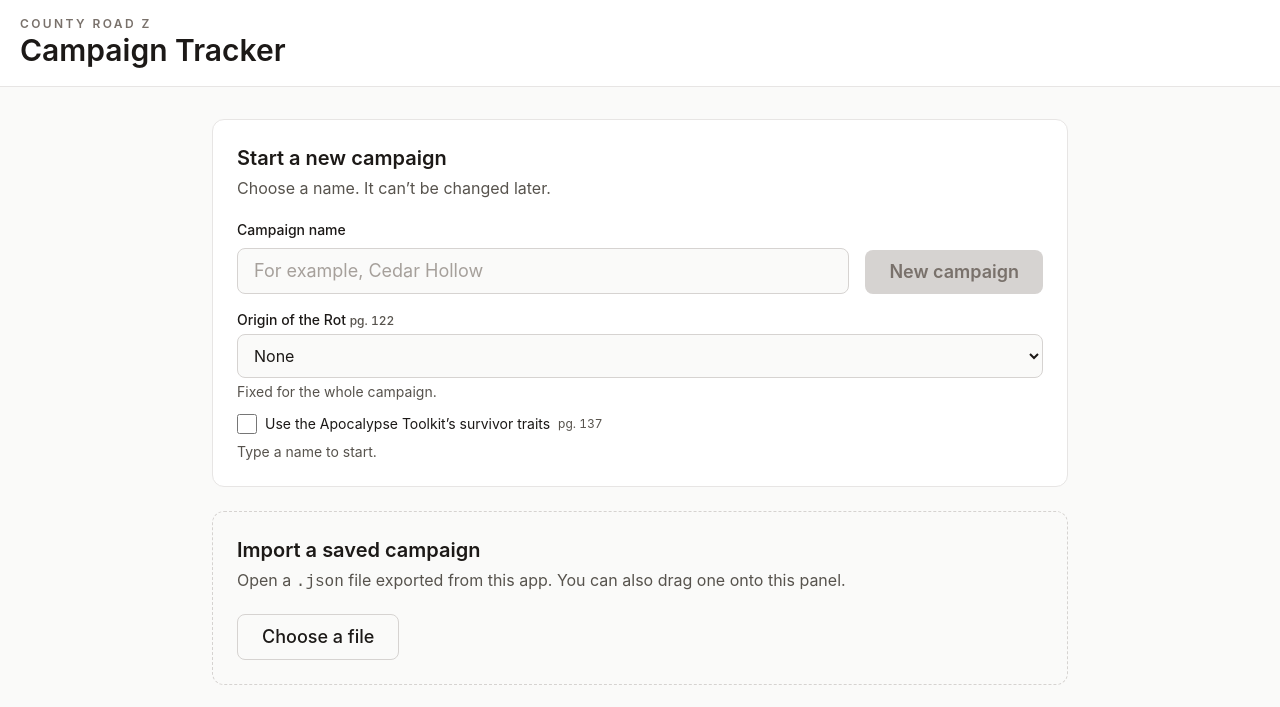
Test: App shell › offers export once a campaign is open, and not before
Type "Cedar Hollow" into the field labelled "Campaign name". click: (543, 270)
box: [237,248,849,294]
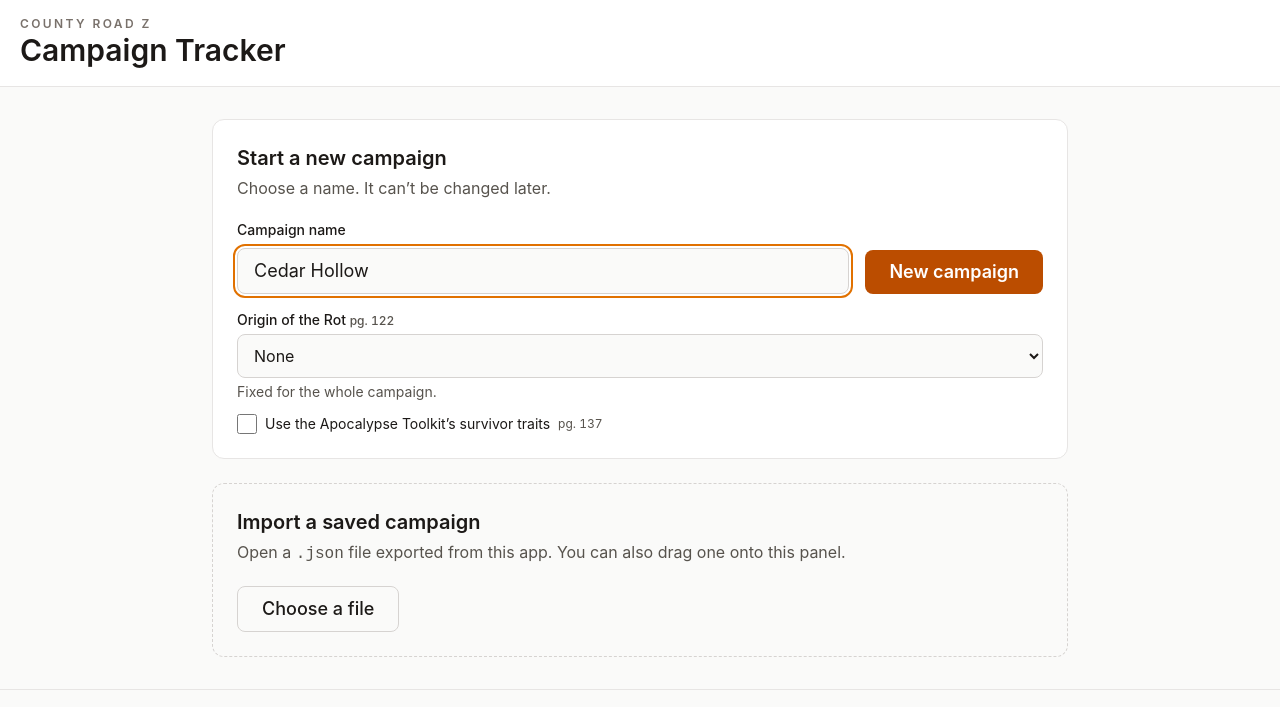
Click the button "New campaign". click: (954, 272)
box: [865,250,1043,294]
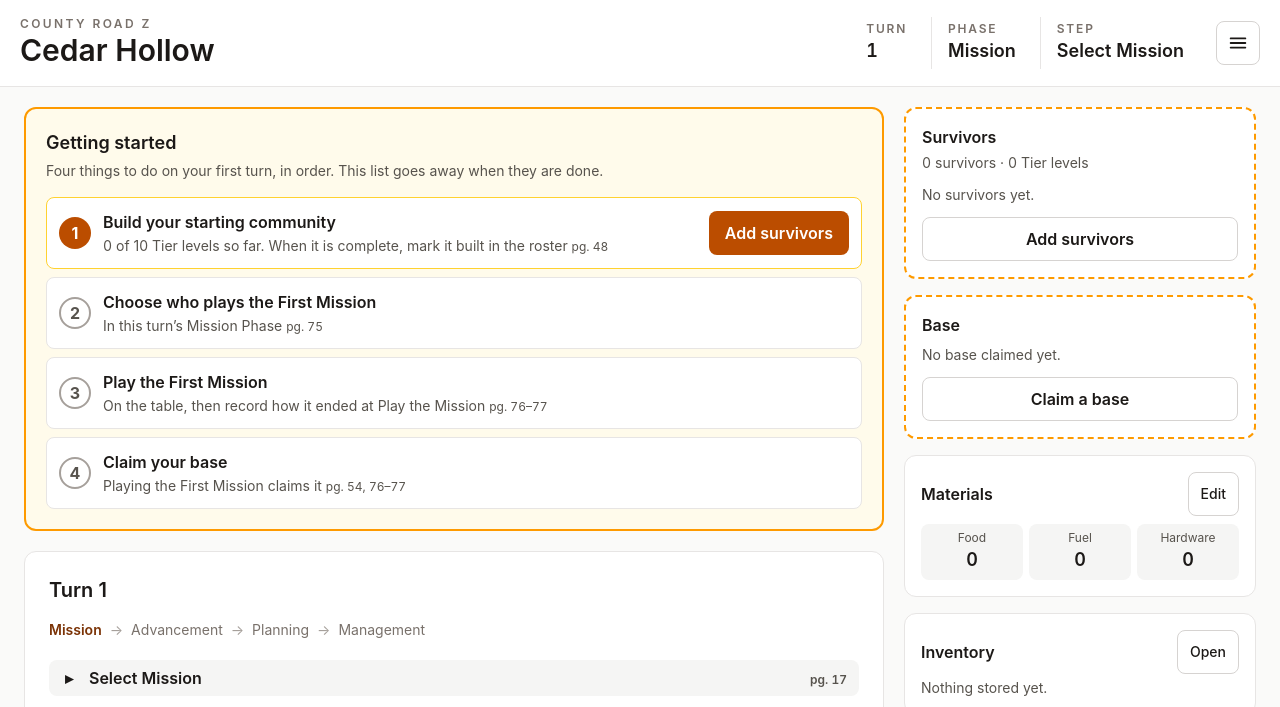
Click the button named "menu". click: (1238, 43)
box: [1216,21,1260,65]
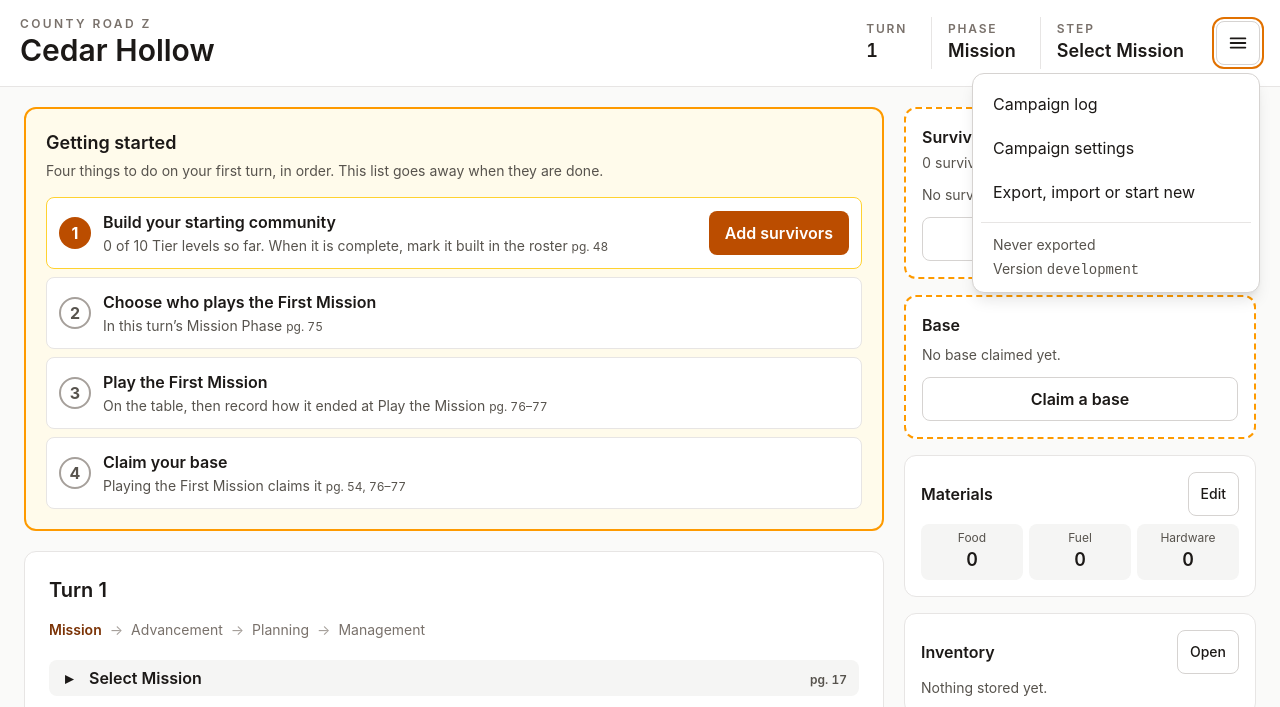
Click the button "Export, import or start new". click: (1116, 192)
box: [981,170,1251,214]
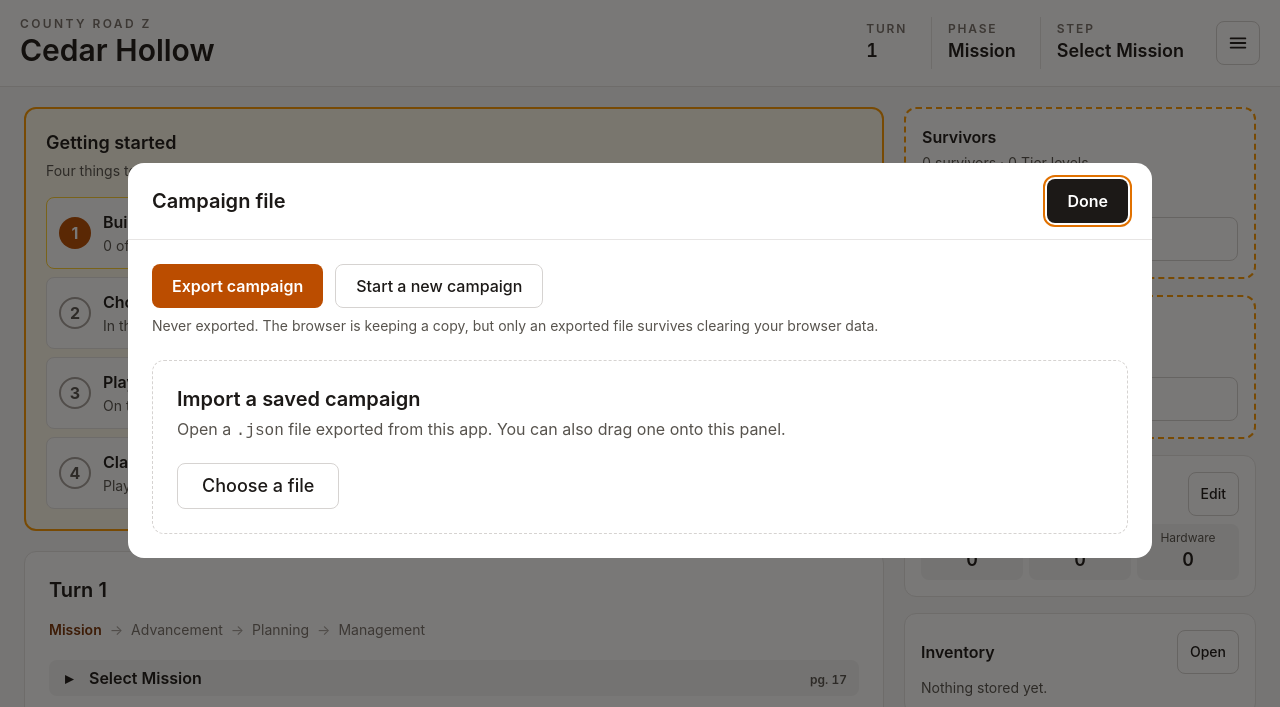
expect the button "Export campaign" is enabled: met, box [152,264,323,308]
